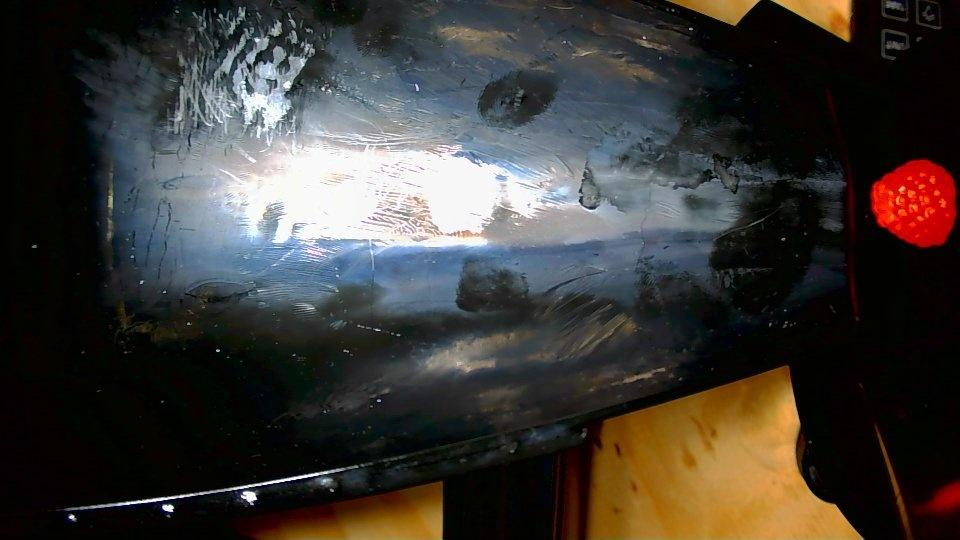berry: (871, 160, 956, 247)
